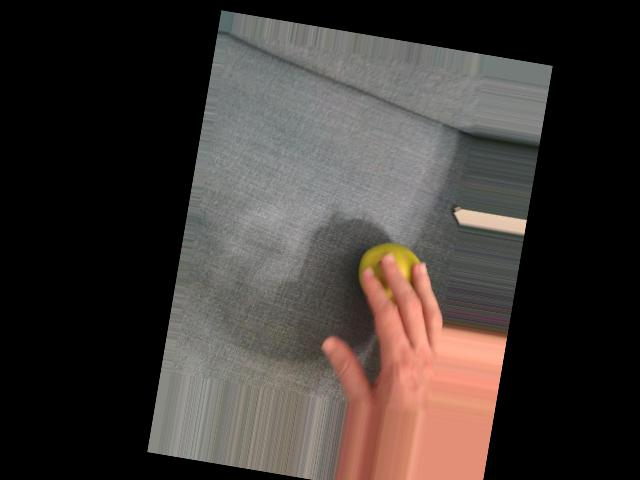apple: (346, 225, 431, 318)
